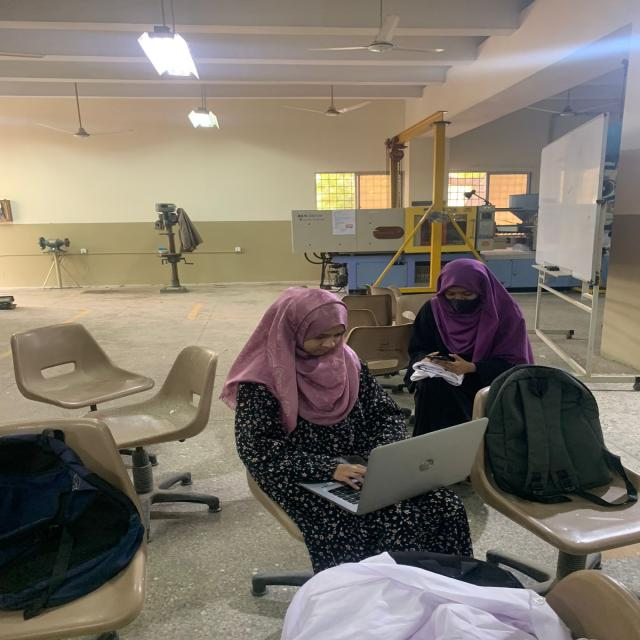dress: (225, 281, 476, 578), (396, 251, 551, 448)
labcoat: (271, 544, 589, 640)
